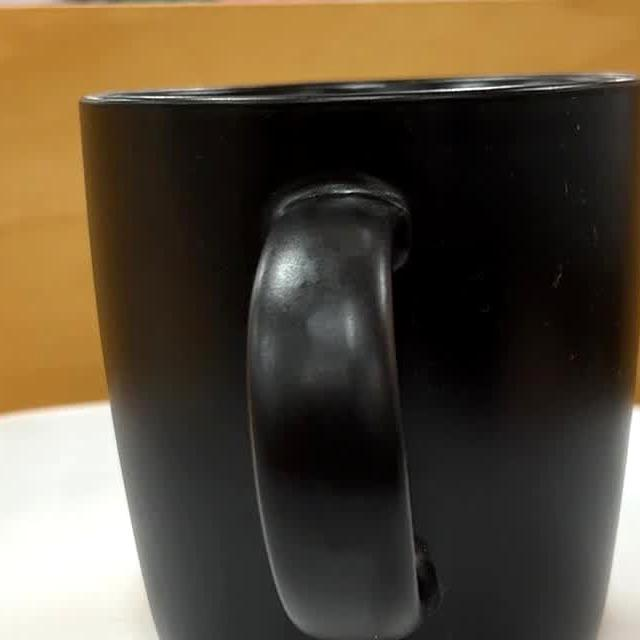cup: (87, 80, 640, 640)
